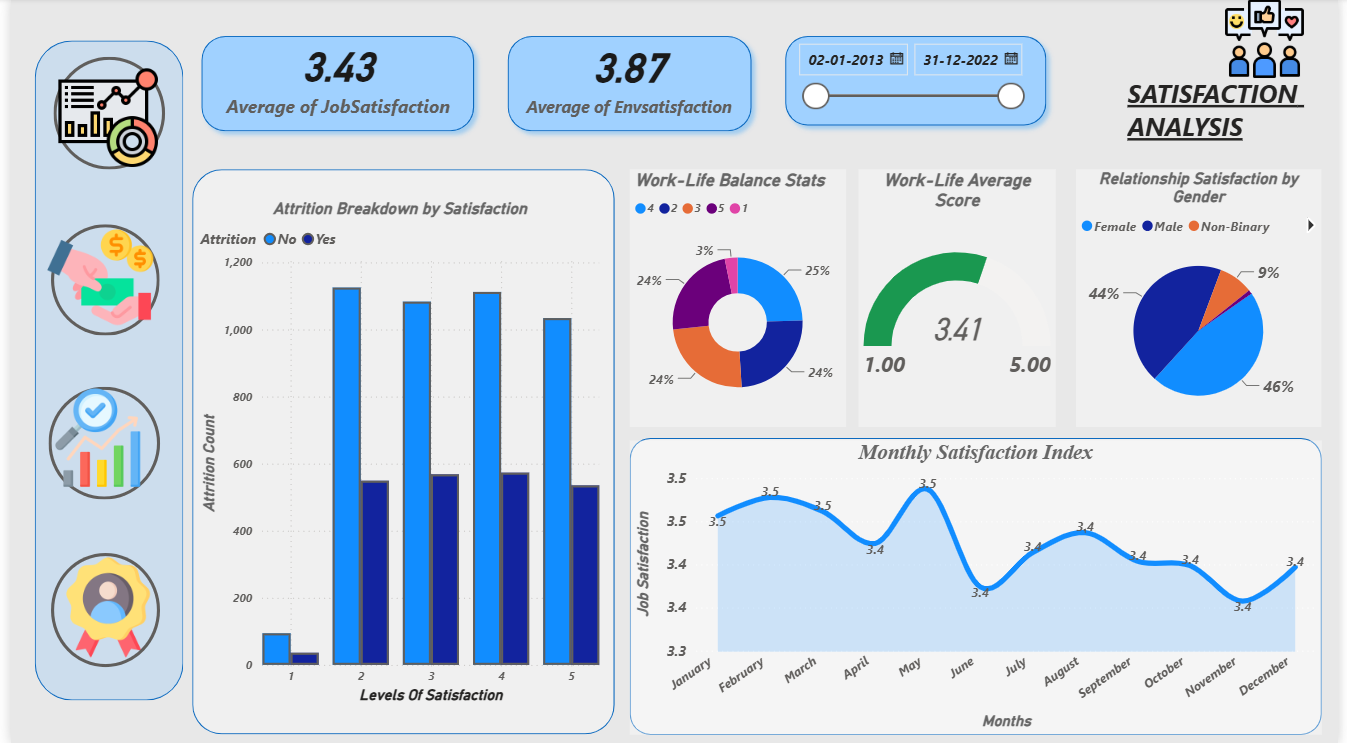

The page's visual inventory and layout, read from the dashboard file:
{"tool":"powerbi","page":{"name":"SATISFACTION ANALYSIS","canvas":[1280,720],"ordinal":3},"visuals":[{"type":"shape","box":[738.8,27.8,269.9,104.3],"z":0},{"type":"shape","box":[470.3,27.8,253.2,109.9],"z":1000},{"type":"shape","box":[175.3,27.8,281,109.9],"z":2000},{"type":"shape","box":[596.9,424.3,667.8,286.6],"z":3000},{"type":"shape","box":[175.3,165.6,407.7,545.4],"z":4000},{"type":"shape","box":[22.9,41,143.6,637],"z":5000},{"type":"card","fields":{"Values":["Avg(Employees.JobSatisfaction)"]},"box":[176.7,27.8,279.7,93.2],"z":6000},{"type":"card","fields":{"Values":["Avg(Employees.EnvironmentSatisfaction)"]},"box":[474.4,18.1,244.9,114.1],"z":7000},{"type":"slicer","fields":{"Values":["Employees.ReviewDate"]},"box":[748.5,33.4,237.9,98.8],"z":8000},{"type":"lineChart","title":"Monthly Satisfaction Index","fields":{"Category":["Employees.ReviewDate.Variation.Date Hierarchy.Month"],"Y":["Avg(Employees.JobSatisfaction)"]},"box":[596.9,427.1,667.8,283.8],"z":9000},{"type":"clusteredColumnChart","title":"Attrition Breakdown by Satisfaction","fields":{"Y":["CountNonNull(Employees.Attrition)"],"Category":["Employees.JobSatisfaction"],"Series":["Employees.Attrition"]},"box":[175.3,189.2,397.9,491.1],"z":10000},{"type":"donutChart","title":"Work-Life Balance Stats","fields":{"Category":["Employees.WorkLifeBalance"],"Y":["Count(Employees.EmployeeID)"]},"box":[596.9,165.6,208.7,249],"z":11000},{"type":"gauge","title":"Work-Life Average Score","fields":{"Y":["Avg(Employees.WorkLifeBalance)"]},"box":[818.1,165.6,190.6,249],"z":12000},{"type":"pieChart","title":"Relationship Satisfaction by Gender","fields":{"Y":["Sum(Employees.RelationshipSatisfaction)"],"Category":["Employees.Gender"]},"box":[1028.2,165.6,236.5,249],"z":13000},{"type":"actionButton","box":[40.9,56.9,107.7,108.9],"z":14000},{"type":"actionButton","box":[38.8,218.8,105,107.5],"z":15000},{"type":"actionButton","box":[35.9,375.1,107.7,108.9],"z":16000},{"type":"image","box":[40,537.5,108.8,100],"z":17000},{"type":"actionButton","box":[38.4,536,105.2,110.2],"z":18000},{"type":"image","box":[33.8,66.2,120,98.8],"z":19000},{"type":"textbox","box":[1072.7,71.1,192,76.4],"z":19000,"group":"g1"},{"type":"image","box":[1164.2,0,91.3,78.5],"z":20000,"group":"g1"},{"type":"image","box":[27.2,217.9,116.4,102.7],"z":20000},{"type":"image","box":[32.5,375,102.5,98.8],"z":21000},{"type":"group","id":"g1","title":"Group 1","box":[1072.7,0,192,147.5],"z":22000}]}

Visuals, with their boxes in screenshot pixels (x1, y1, x2, y2), scaled from the page's 1280x720 canvas onto the 1347x743 screenshot:
shape: [x1=777, y1=29, x2=1061, y2=136]
shape: [x1=495, y1=29, x2=761, y2=142]
shape: [x1=184, y1=29, x2=480, y2=142]
shape: [x1=628, y1=438, x2=1331, y2=734]
shape: [x1=184, y1=171, x2=614, y2=734]
shape: [x1=24, y1=42, x2=175, y2=700]
card - Avg(Employees.JobSatisfaction): [x1=186, y1=29, x2=480, y2=125]
card - Avg(Employees.EnvironmentSatisfaction): [x1=499, y1=19, x2=757, y2=136]
slicer - Employees.ReviewDate: [x1=788, y1=34, x2=1038, y2=136]
"Monthly Satisfaction Index" lineChart: [x1=628, y1=441, x2=1331, y2=734]
"Attrition Breakdown by Satisfaction" clusteredColumnChart: [x1=184, y1=195, x2=603, y2=702]
"Work-Life Balance Stats" donutChart: [x1=628, y1=171, x2=848, y2=428]
"Work-Life Average Score" gauge: [x1=861, y1=171, x2=1061, y2=428]
"Relationship Satisfaction by Gender" pieChart: [x1=1082, y1=171, x2=1331, y2=428]
actionButton: [x1=43, y1=59, x2=156, y2=171]
actionButton: [x1=41, y1=226, x2=151, y2=337]
actionButton: [x1=38, y1=387, x2=151, y2=499]
image: [x1=42, y1=555, x2=157, y2=658]
actionButton: [x1=40, y1=553, x2=151, y2=667]
image: [x1=36, y1=68, x2=162, y2=170]
textbox: [x1=1129, y1=73, x2=1331, y2=152]
image: [x1=1225, y1=0, x2=1321, y2=81]
image: [x1=29, y1=225, x2=151, y2=331]
image: [x1=34, y1=387, x2=142, y2=489]
"Group 1" group: [x1=1129, y1=0, x2=1331, y2=152]
